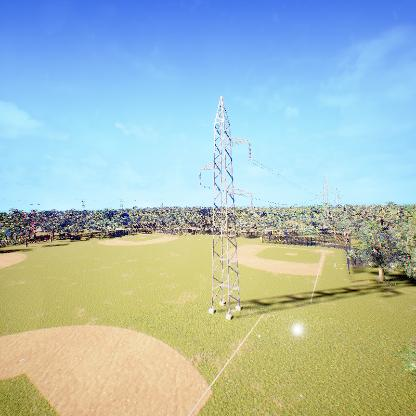tower: (197, 95, 253, 324)
